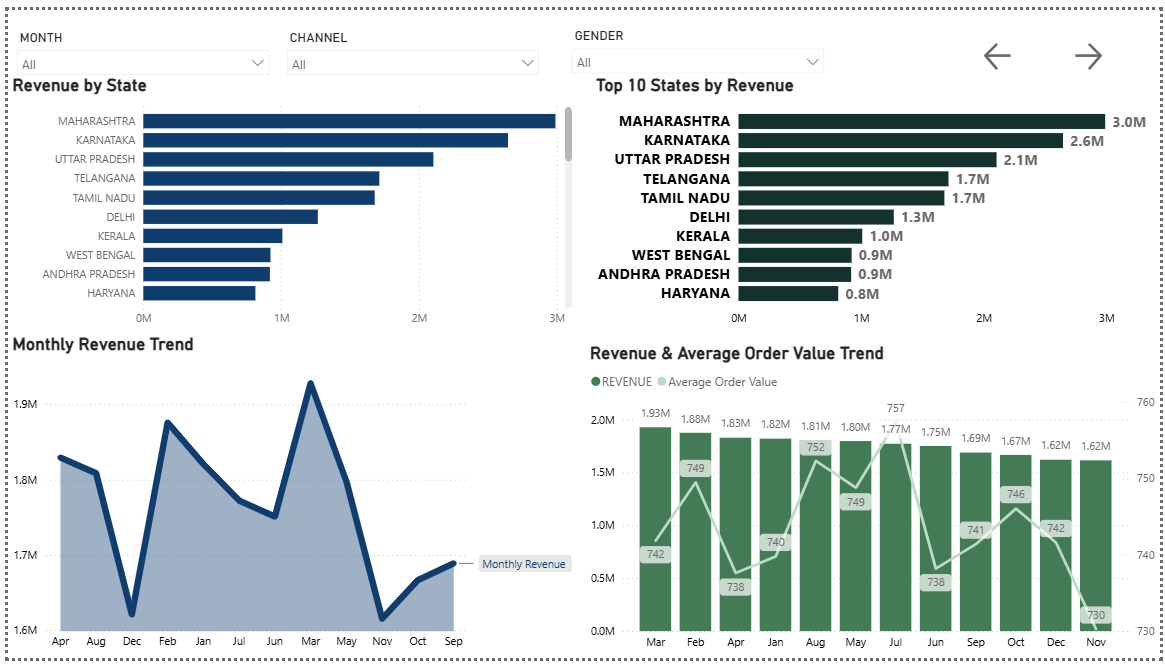

The dashboard page shown, as its layout file describes it:
{"tool":"powerbi","page":{"name":"Sales & Geography","canvas":[1280,720],"ordinal":1},"visuals":[{"type":"clusteredBarChart","title":"Top 10 States by Revenue","fields":{"Category":["RETAIL_SALES.SHIP_STATE"],"Y":["Sum(RETAIL_SALES.AMOUNT)"]},"box":[648.1,71.2,631.4,289.2],"z":0},{"type":"barChart","title":"Revenue by State","fields":{"Category":["RETAIL_SALES.SHIP_STATE"],"Y":["Sum(RETAIL_SALES.AMOUNT)"]},"box":[0,71.2,631.4,289.2],"z":1000},{"type":"lineChart","title":"Monthly Revenue  Trend","fields":{"Category":["RETAIL_SALES.MONTH_NAME"],"Y":["Sum(RETAIL_SALES.AMOUNT)"]},"box":[0,360.4,631.4,358.9],"z":2000},{"type":"lineClusteredColumnComboChart","title":"Revenue & Average Order Value Trend","fields":{"Category":["RETAIL_SALES.MONTH_NAME"],"Y":["Sum(RETAIL_SALES.AMOUNT)"],"Y2":["RETAIL_SALES.Average Order Value"]},"box":[642,369.5,637.5,349.8],"z":3000},{"type":"slicer","fields":{"Values":["RETAIL_SALES.MONTH_NAME"]},"box":[0,16.7,299.8,56],"z":4000},{"type":"slicer","fields":{"Values":["RETAIL_SALES.CHANNEL"]},"box":[299.8,16.7,299.8,56],"z":5000},{"type":"slicer","fields":{"Values":["RETAIL_SALES.GENDER"]},"box":[616.3,15.1,299.8,56],"z":6000},{"type":"actionButton","box":[1180,32,100,40],"z":7000},{"type":"actionButton","box":[1080,32,100,40],"z":8000}]}

Visuals, with their boxes in screenshot pixels (x1, y1, x2, y2), scaled from the page's 1280x720 canvas onto the 1165x664 screenshot:
"Top 10 States by Revenue" clusteredBarChart: region(590, 66, 1164, 332)
"Revenue by State" barChart: region(0, 66, 575, 332)
"Monthly Revenue  Trend" lineChart: region(0, 332, 575, 663)
"Revenue & Average Order Value Trend" lineClusteredColumnComboChart: region(584, 341, 1164, 663)
slicer - RETAIL_SALES.MONTH_NAME: region(0, 15, 273, 67)
slicer - RETAIL_SALES.CHANNEL: region(273, 15, 546, 67)
slicer - RETAIL_SALES.GENDER: region(561, 14, 834, 66)
actionButton: region(1074, 30, 1164, 66)
actionButton: region(983, 30, 1074, 66)
